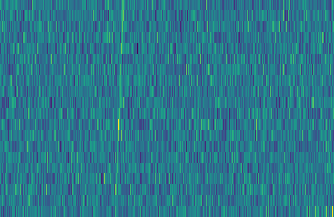signal: (109, 0, 126, 217)
